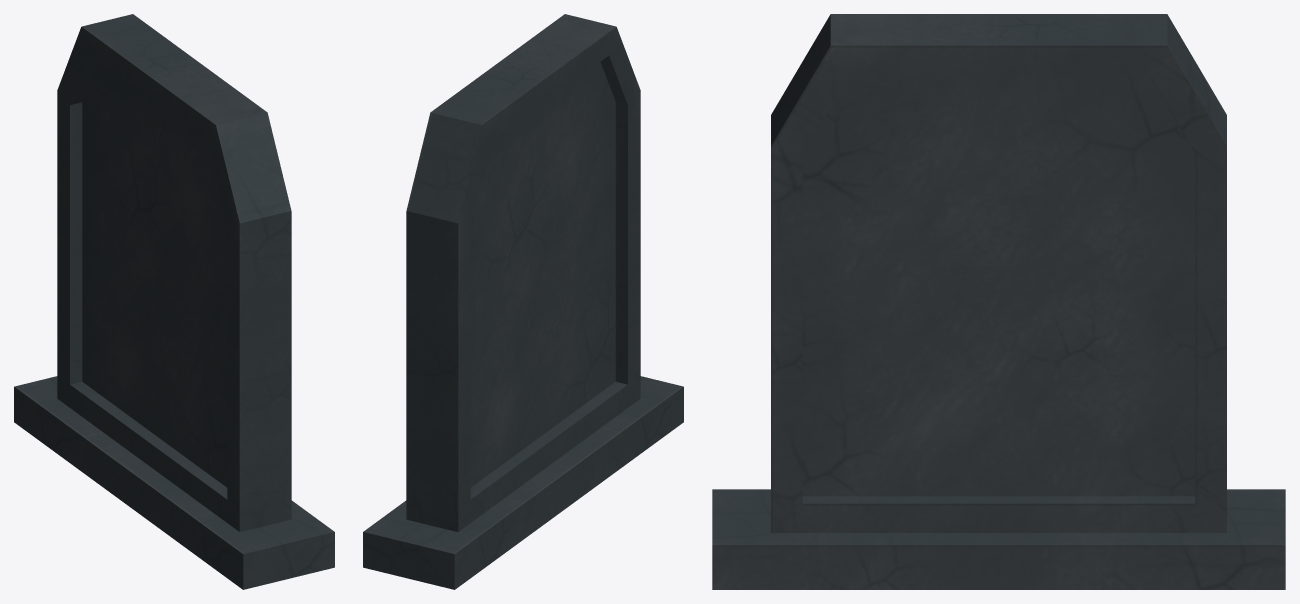
File: Gravestone8_Model.fbx
3 renders of one model, left to right at view 1: azimuth 30°, elevation 25°; view 2: azimuth 150°, elevation 25°; view 3: azimuth 270°, elevation 25°, orthographic. The views are drawn at different scales.
Visible parts, largest first — view 1: Gravestone8; view 2: Gravestone8; view 3: Gravestone8.
Part boxes in pixels (<box>): Gravestone8: <box>14,14,334,589</box>; Gravestone8: <box>363,14,683,589</box>; Gravestone8: <box>712,14,1285,589</box>.
Size of the model in its own units: 8.85 by 39.26 by 38.31.
